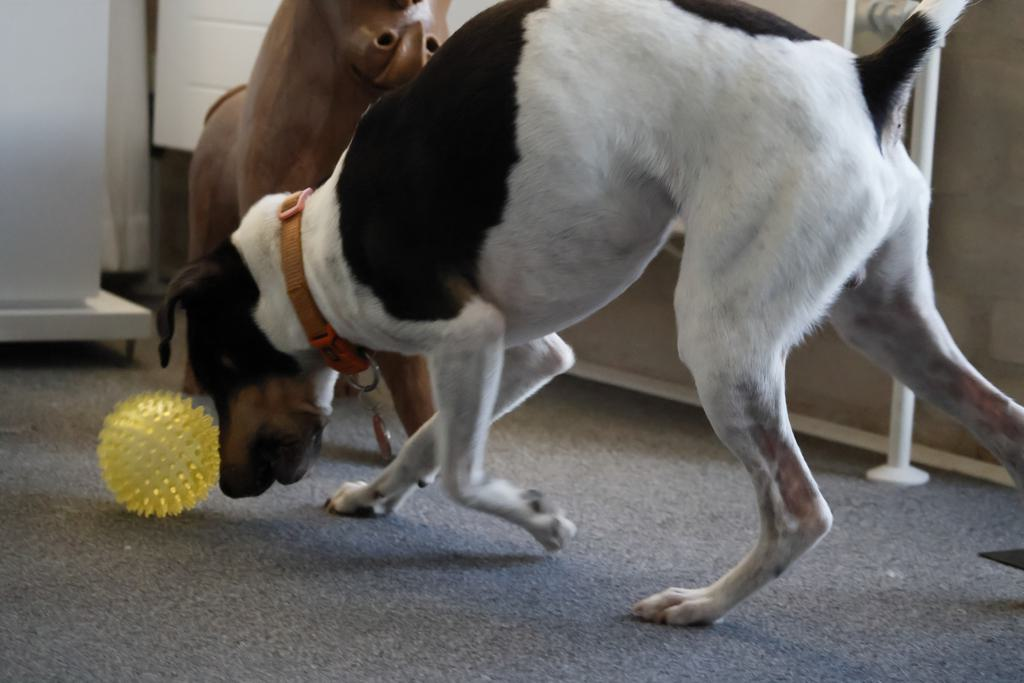Cattle: (168, 0, 482, 445)
Dog: (146, 0, 1024, 634)
